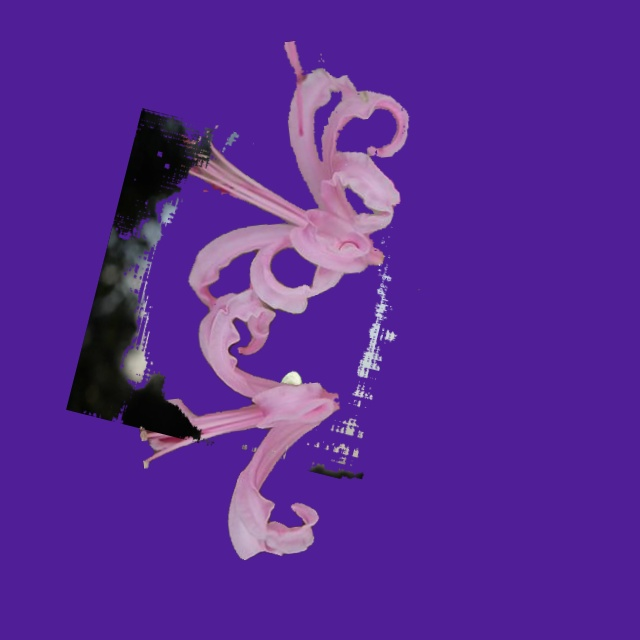cape flower: (139, 41, 408, 559)
dandelion: (66, 108, 396, 478)
jasmine: (272, 371, 315, 423)
